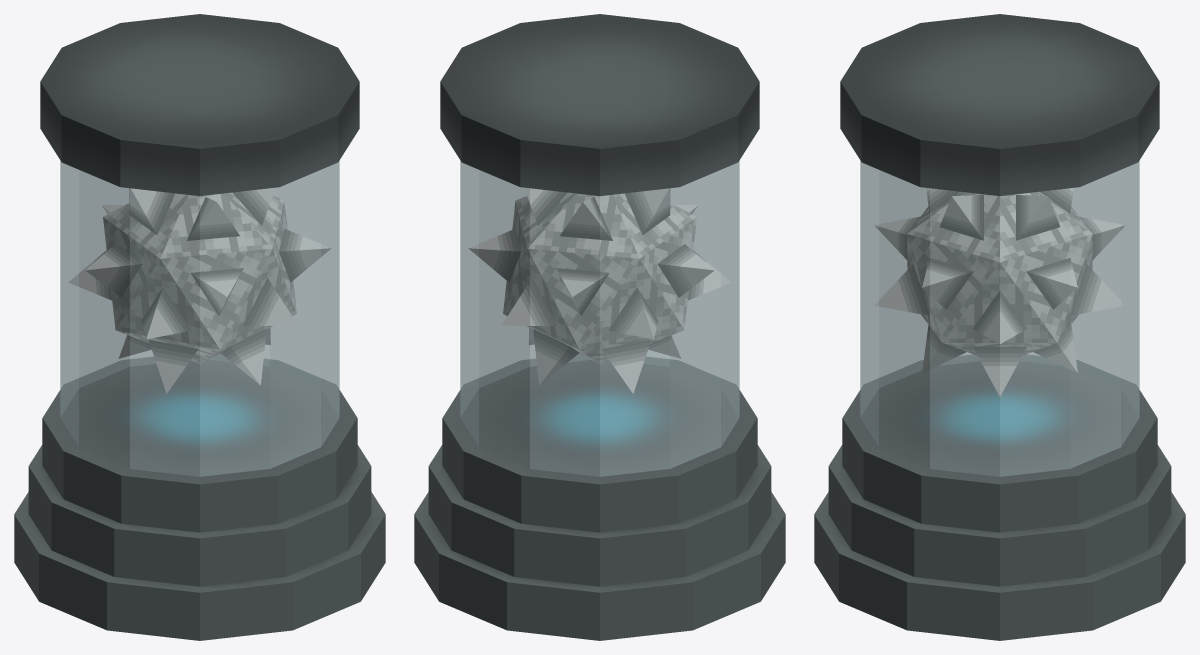
File: MineHolder.fbx
The picture shows the model from 3 angles, left to right: view 1: azimuth 30°, elevation 25°; view 2: azimuth 150°, elevation 25°; view 3: azimuth 270°, elevation 25°; orthographic projection.
Visible parts, largest first — view 1: MineHolder, Mine.001; view 2: MineHolder, Mine.001; view 3: MineHolder, Mine.001.
Boxes of the visible parts, x1,y1,x2,y2 form: MineHolder: (14,14,385,640); Mine.001: (68,187,331,393); MineHolder: (414,14,785,640); Mine.001: (468,187,731,393); MineHolder: (814,14,1185,640); Mine.001: (874,188,1125,396).
Bounding box in the file's own units: 140 × 200 × 140.
